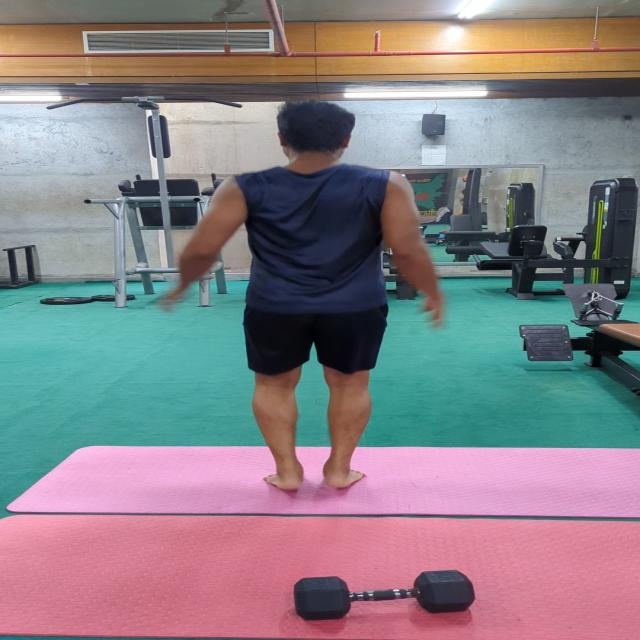Normal_JumpingJacks: (144, 88, 452, 499)
